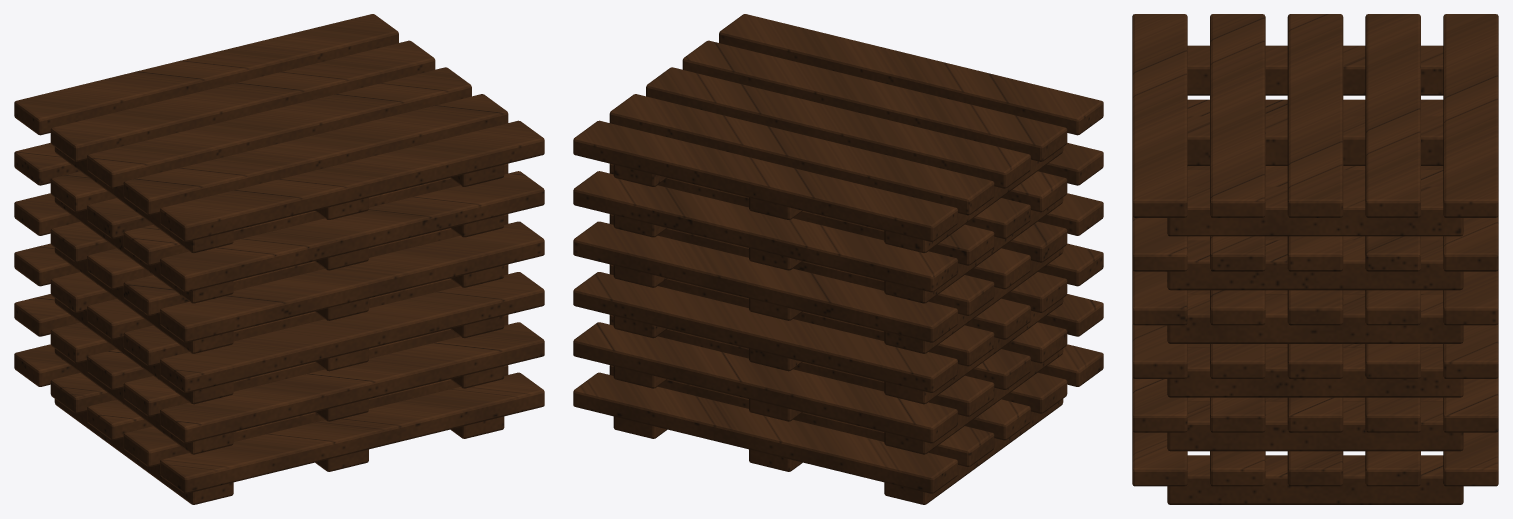
Rendered from PROP-F4DA946D6EB2_lod0.glb.
3 views of the same model, side by side, from view 1: azimuth 30°, elevation 25°; view 2: azimuth 150°, elevation 25°; view 3: azimuth 270°, elevation 25° (orthographic). The views are drawn at different scales.
Parts seen in each view (by area): view 1: pallet_deck.001, pallet_feet.001; view 2: pallet_deck.001, pallet_feet.001; view 3: pallet_deck.001, pallet_feet.001.
Part boxes in pixels (bbox=[...]): pallet_deck.001: bbox=[14, 14, 544, 493]; pallet_feet.001: bbox=[54, 147, 504, 504]; pallet_deck.001: bbox=[573, 14, 1103, 493]; pallet_feet.001: bbox=[613, 147, 1063, 504]; pallet_deck.001: bbox=[1132, 14, 1498, 486]; pallet_feet.001: bbox=[1167, 45, 1463, 504].
Bounding box in the file's own units: 1.2 × 0.9475 × 0.99.
1 material, 1 textured.
